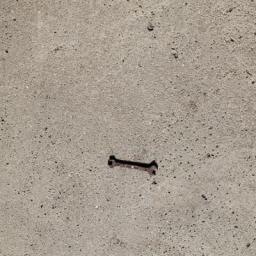FOD: (105, 152, 165, 181)
